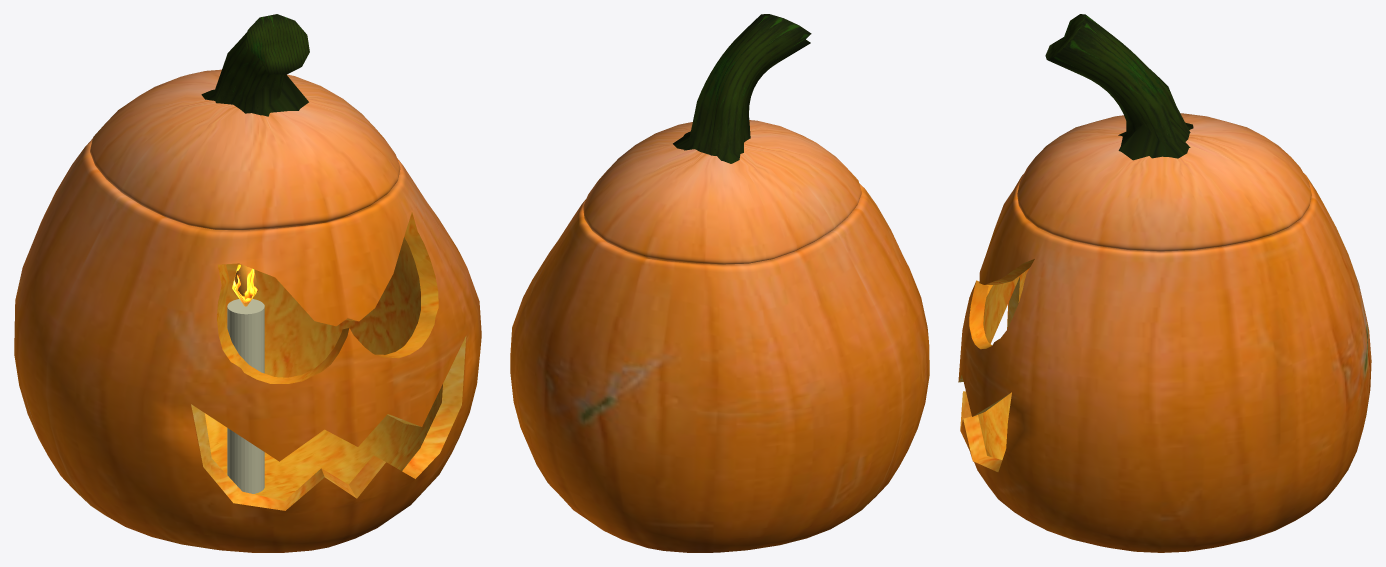
The model's file is pumpkin2_candel.glb.
The picture shows the model from 3 angles, left to right: view 1: azimuth 30°, elevation 25°; view 2: azimuth 150°, elevation 25°; view 3: azimuth 270°, elevation 25°; orthographic projection. The views are drawn at different scales.
Parts seen in each view (by area): view 1: frontR_pumpkin_body; view 2: frontR_pumpkin_body; view 3: frontR_pumpkin_body.
Boxes of the visible parts, x1,y1,x2,y2 form: frontR_pumpkin_body: (14, 14, 481, 552); frontR_pumpkin_body: (510, 14, 929, 552); frontR_pumpkin_body: (958, 14, 1371, 552).
Size of the model in its own units: 7.5 by 9.29 by 7.21.
Materials: 6 (5 with a texture image).
